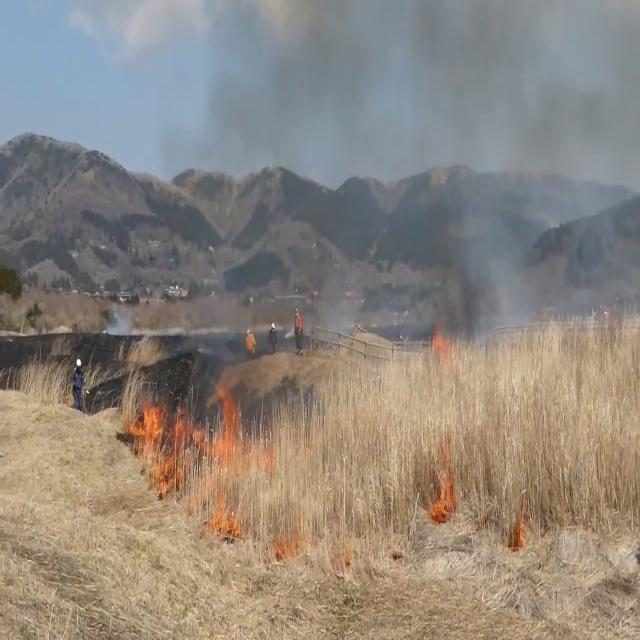Fire: (132, 380, 255, 472)
Smoke: (416, 3, 639, 358)
